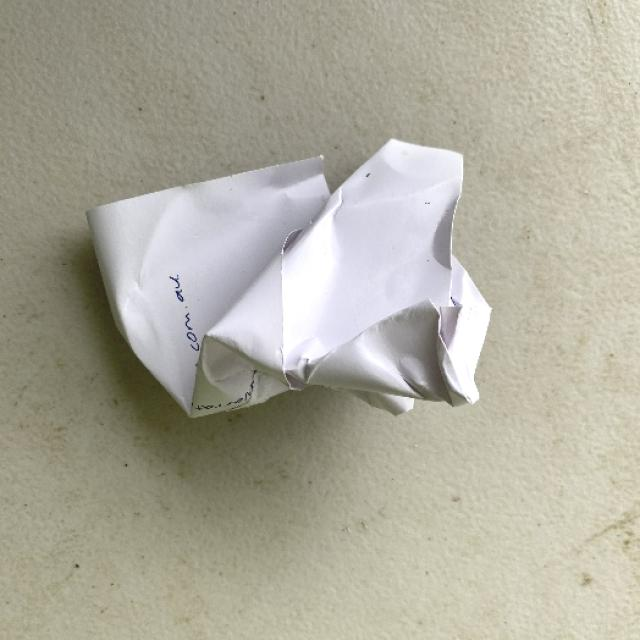kertas: (80, 138, 502, 440)
